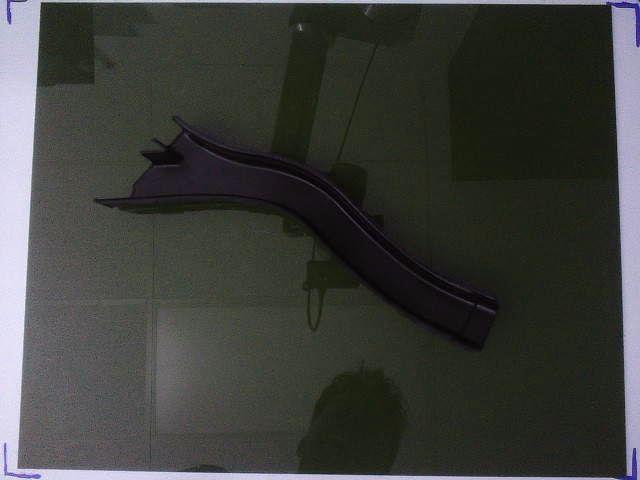887_B-Under: (94, 115, 500, 348)
